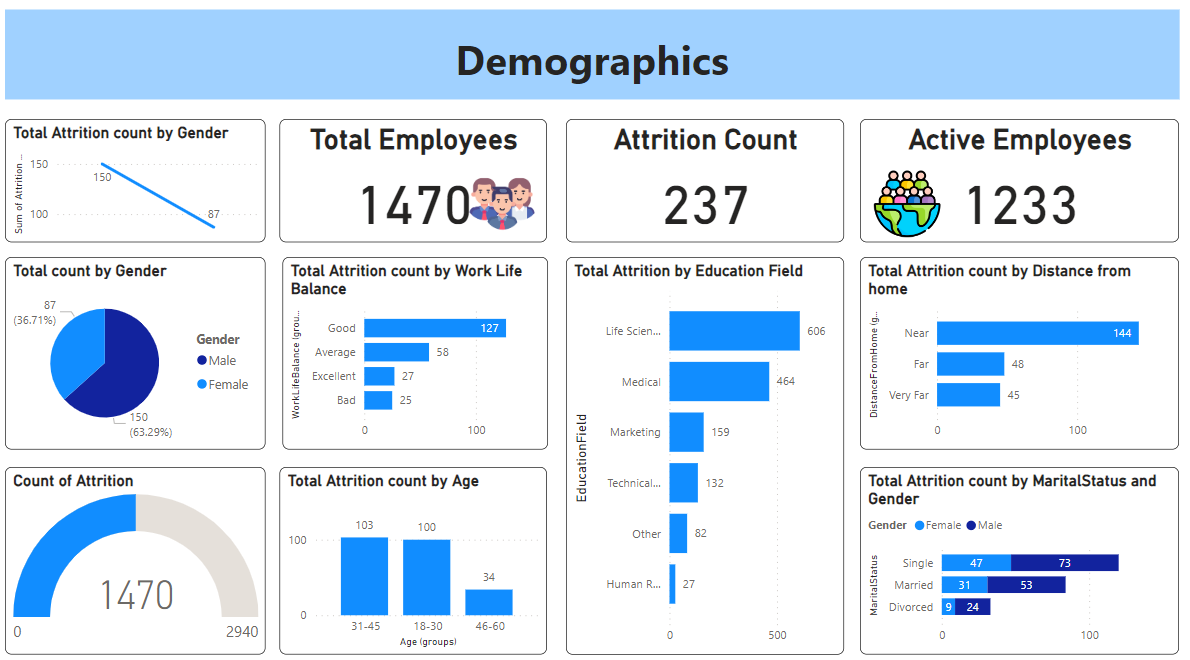

The dashboard page shown, as its layout file describes it:
{"tool":"powerbi","page":{"name":"Page 2","canvas":[1280,720],"ordinal":1},"visuals":[{"type":"card","title":"Total Employees","fields":{"Values":["Sum(HR-Employee-Attrition.EmployeeCount)"]},"box":[304.3,139.8,283.5,130.4],"z":0},{"type":"clusteredBarChart","title":"Total Attrition by Education Field","fields":{"Y":["CountNonNull(HR-Employee-Attrition.Attrition)"],"Category":["HR-Employee-Attrition.EducationField"]},"box":[606.6,285.4,294.8,421.4],"z":1000},{"type":"card","title":"Attrition Count ","fields":{"Values":["Sum(HR-Employee-Attrition.Attrition count)"]},"box":[606.6,139.8,294.8,130.4],"z":2000},{"type":"card","title":"Active Employees","fields":{"Values":["Max(HR-Employee-Attrition.AE)"]},"box":[918.4,139.8,338.3,130.4],"z":3000},{"type":"clusteredBarChart","title":"Total Attrition count by Work Life Balance","fields":{"Category":["HR-Employee-Attrition.WorkLifeBalance (groups)"],"Y":["Sum(HR-Employee-Attrition.Attrition count)"]},"box":[306.1,285.4,281.6,204.1],"z":4000},{"type":"columnChart","title":"Total Attrition count by Age ","fields":{"Category":["HR-Employee-Attrition.Age (groups)"],"Y":["Sum(HR-Employee-Attrition.Attrition count)"]},"box":[304.3,508.4,283.5,198.4],"z":5000},{"type":"clusteredBarChart","title":"Total Attrition count by Distance from home ","fields":{"Y":["Sum(HR-Employee-Attrition.Attrition count)"],"Category":["HR-Employee-Attrition.DistanceFromHome (groups)"]},"box":[918.4,285.4,338.3,204.1],"z":6000},{"type":"barChart","title":"Total Attrition count by MaritalStatus and Gender","fields":{"Category":["HR-Employee-Attrition.MaritalStatus"],"Y":["Sum(HR-Employee-Attrition.Attrition count)"],"Series":["HR-Employee-Attrition.Gender"]},"box":[918.4,508.4,338.3,198.4],"z":7000},{"type":"pieChart","title":"Total count by Gender","fields":{"Category":["HR-Employee-Attrition.Gender"],"Y":["Sum(HR-Employee-Attrition.Attrition count)"]},"box":[13.2,285.4,275.9,204.1],"z":8000},{"type":"gauge","fields":{"Y":["CountNonNull(HR-Employee-Attrition.Attrition)"]},"box":[13.2,508.4,275.9,198.4],"z":9000},{"type":"textbox","box":[12.7,23.8,1244.5,95.4],"z":10000},{"type":"lineChart","title":"Total Attrition count by Gender","fields":{"Category":["HR-Employee-Attrition.Gender"],"Y":["Sum(HR-Employee-Attrition.Attrition count)"]},"box":[13.2,139.8,275.9,130.4],"z":11000},{"type":"image","box":[492.7,189.1,93.8,81.1],"z":12000},{"type":"image","box":[918.7,189.1,100.1,81.1],"z":13000}]}

Visuals, with their boxes in screenshot pixels (x1, y1, x2, y2), scaled from the page's 1280x720 canvas onto the 1190x660 screenshot:
"Total Employees" card: locate(283, 128, 546, 248)
"Total Attrition by Education Field" clusteredBarChart: locate(564, 262, 838, 648)
"Attrition Count " card: locate(564, 128, 838, 248)
"Active Employees" card: locate(854, 128, 1168, 248)
"Total Attrition count by Work Life Balance" clusteredBarChart: locate(285, 262, 546, 449)
"Total Attrition count by Age " columnChart: locate(283, 466, 546, 648)
"Total Attrition count by Distance from home " clusteredBarChart: locate(854, 262, 1168, 449)
"Total Attrition count by MaritalStatus and Gender" barChart: locate(854, 466, 1168, 648)
"Total count by Gender" pieChart: locate(12, 262, 269, 449)
gauge - CountNonNull(HR-Employee-Attrition.Attrition): locate(12, 466, 269, 648)
textbox: locate(12, 22, 1169, 109)
"Total Attrition count by Gender" lineChart: locate(12, 128, 269, 248)
image: locate(458, 173, 545, 248)
image: locate(854, 173, 947, 248)
